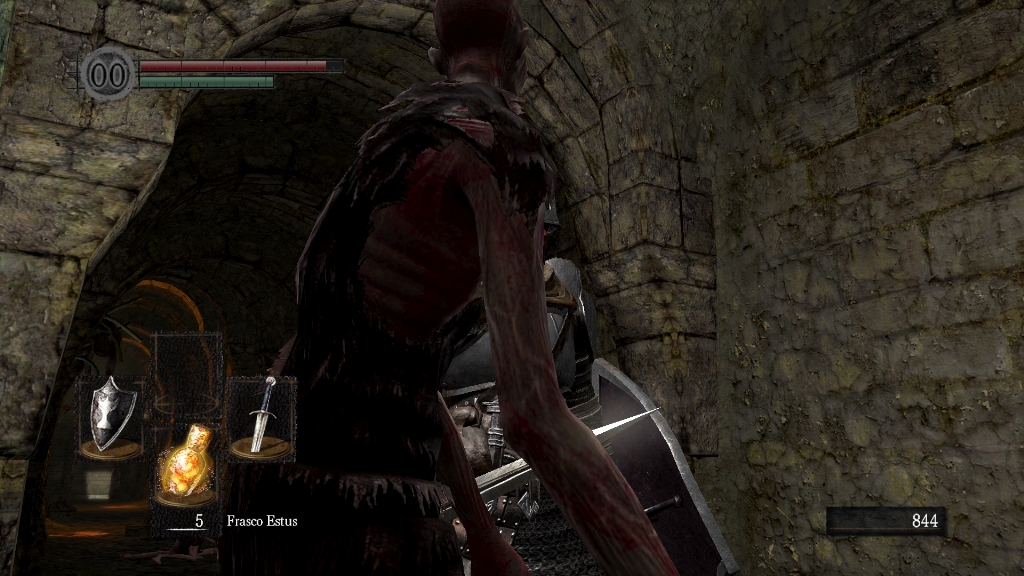health: (138, 58, 343, 71)
hollow: (234, 1, 684, 576)
humanity: (80, 45, 136, 102)
player: (425, 161, 742, 574)
souls: (825, 506, 945, 536)
stamina: (138, 74, 274, 88)
